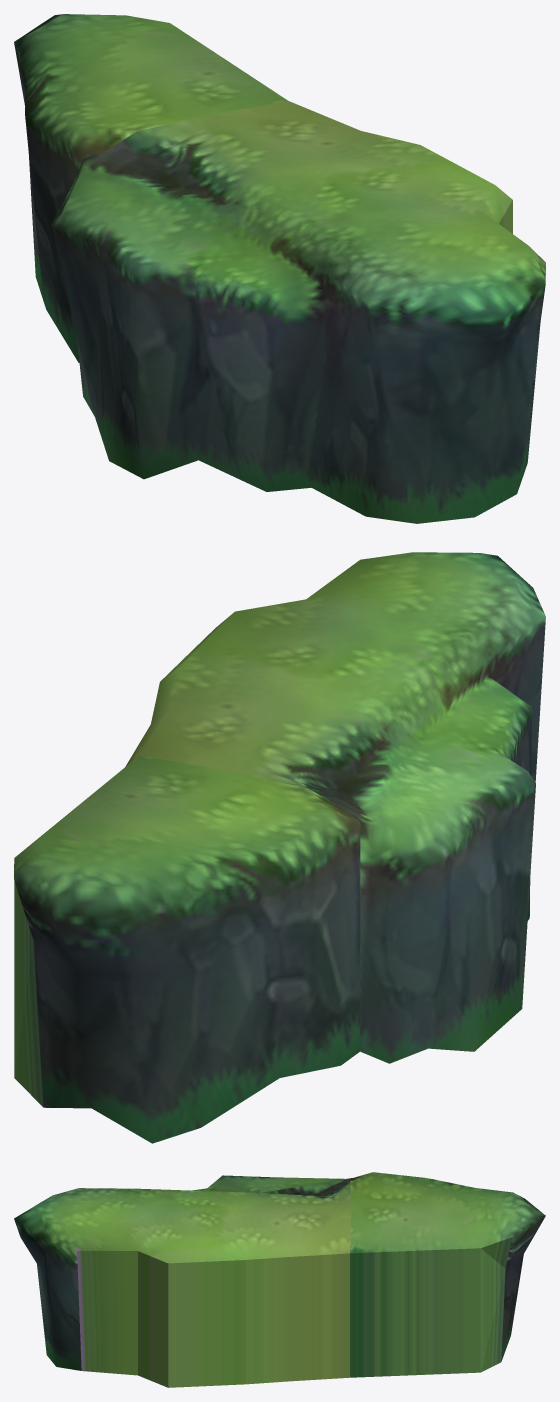
Rendered from scenes_demo_cliff01.FBX.
3 views of the same model, one above another, from view 1: azimuth 30°, elevation 25°; view 2: azimuth 150°, elevation 25°; view 3: azimuth 270°, elevation 25° (orthographic). The views are drawn at different scales.
Visible parts, largest first — view 1: scenes_demo_cliff01; view 2: scenes_demo_cliff01; view 3: scenes_demo_cliff01.
Boxes of the visible parts, x1,y1,x2,y2 form: scenes_demo_cliff01: [14, 14, 545, 523]; scenes_demo_cliff01: [14, 552, 545, 1143]; scenes_demo_cliff01: [14, 1172, 545, 1387].
Size of the model in its own units: 668 by 520 by 1476.
